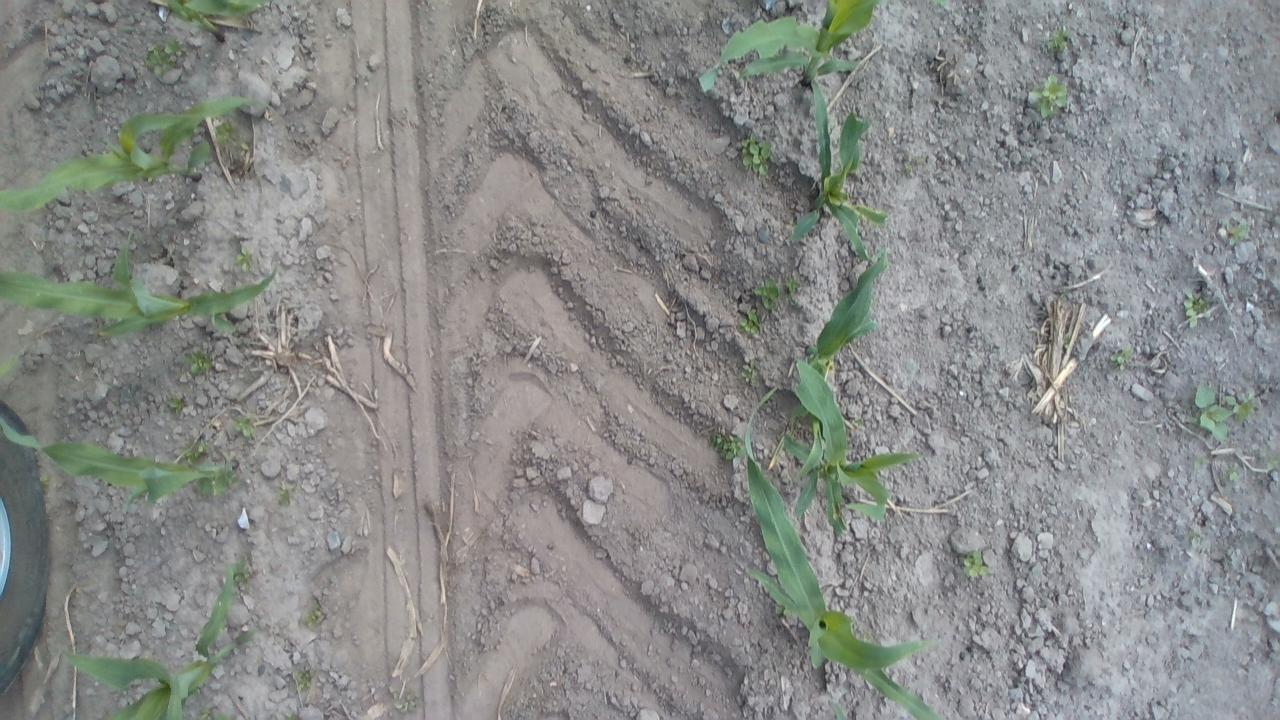Maize: (740, 383, 959, 720), (56, 551, 264, 720), (0, 92, 264, 216), (0, 236, 283, 336), (1, 401, 251, 512), (782, 351, 928, 531), (782, 71, 892, 266), (787, 250, 898, 439), (691, 0, 894, 98), (152, 0, 276, 30)
Weeds: (1188, 379, 1262, 438), (1024, 76, 1070, 122), (735, 130, 775, 178), (757, 276, 805, 316), (146, 37, 190, 77), (1181, 286, 1214, 332), (734, 354, 770, 395), (708, 426, 746, 464), (957, 543, 994, 582), (180, 346, 217, 378), (1213, 219, 1251, 250), (1042, 26, 1080, 56), (286, 664, 322, 694), (736, 306, 766, 338), (391, 686, 423, 716), (301, 596, 330, 628), (1110, 342, 1142, 371), (1226, 460, 1254, 490), (184, 436, 213, 464), (272, 480, 302, 506), (233, 412, 259, 442), (163, 389, 190, 417), (232, 559, 262, 584), (233, 244, 255, 274), (196, 704, 231, 720), (1188, 449, 1210, 472), (1264, 451, 1280, 476), (280, 708, 304, 720)
